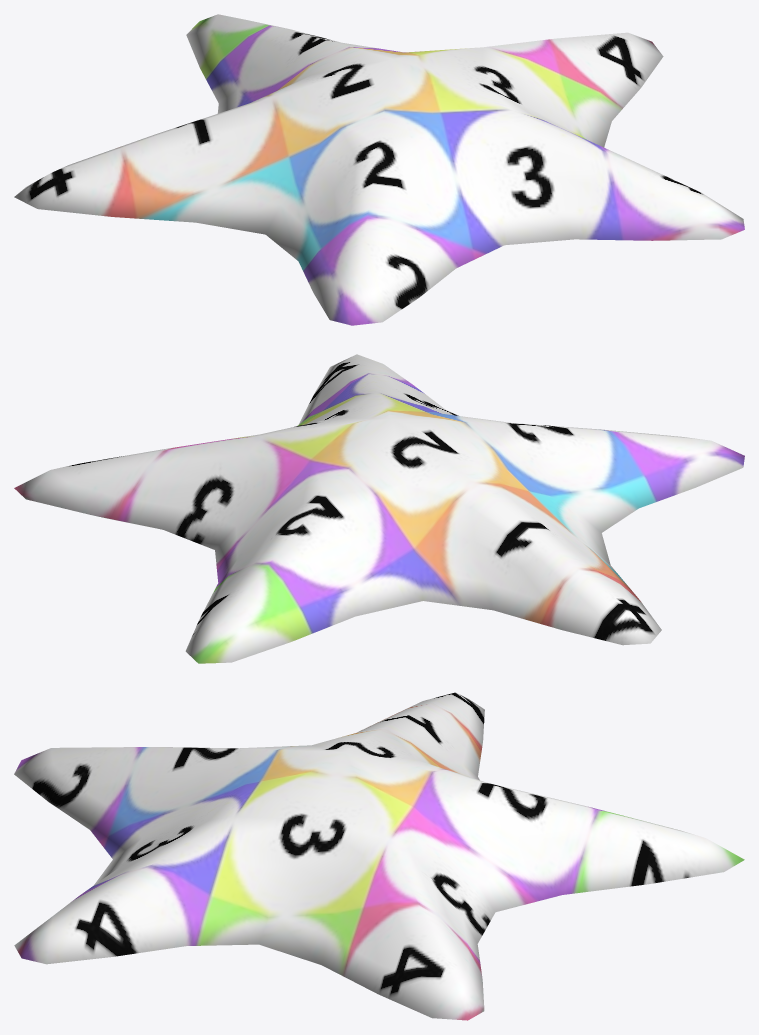
The model's file is Starfish.fbx.
The picture shows the model from 3 angles, top to bottom: view 1: azimuth 30°, elevation 25°; view 2: azimuth 150°, elevation 25°; view 3: azimuth 270°, elevation 25°; orthographic projection. The views are drawn at different scales.
Visible parts, largest first — view 1: pCylinder1; view 2: pCylinder1; view 3: pCylinder1.
Boxes of the visible parts, x1,y1,x2,y2 form: pCylinder1: [14, 14, 744, 325]; pCylinder1: [14, 354, 744, 663]; pCylinder1: [14, 692, 744, 1020].
Bounding box in the file's own units: 14.85 × 2.47 × 14.26.
